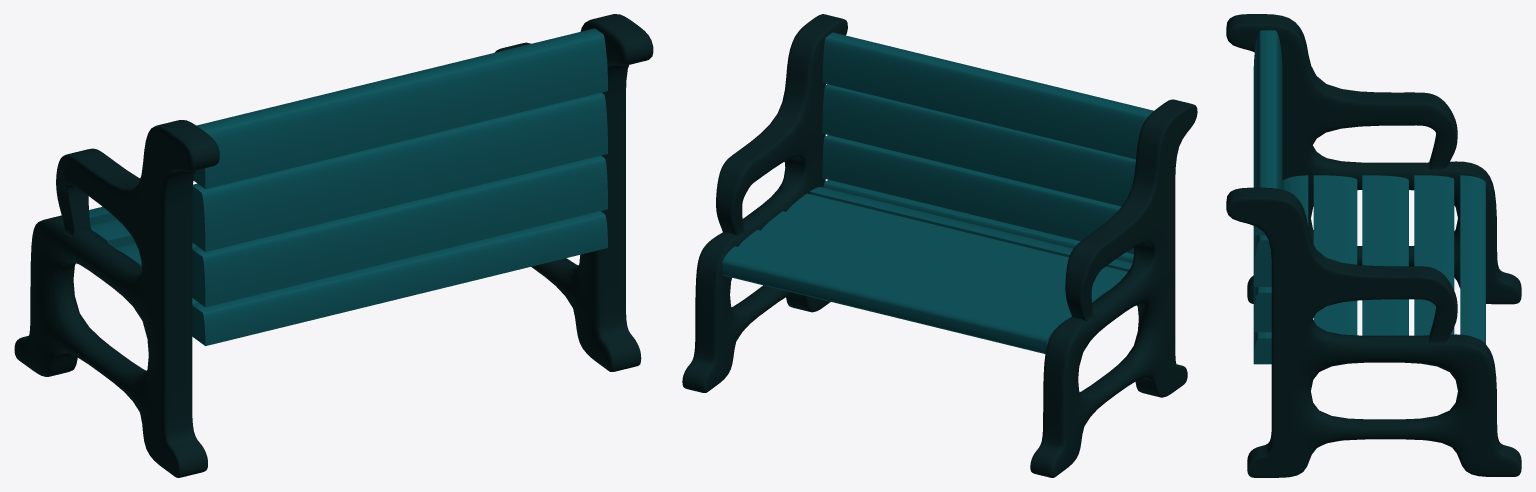
The model's file is Banco.fbx.
The picture shows the model from 3 angles, left to right: view 1: azimuth 30°, elevation 25°; view 2: azimuth 150°, elevation 25°; view 3: azimuth 270°, elevation 25°; orthographic projection. The views are drawn at different scales.
Visible parts, largest first — view 1: Cube.092, Cube.091, Cube.090; view 2: Cube.092, Cube.091, Cube.090; view 3: Cube.091, Cube.090, Cube.092.
Boxes of the visible parts, bbox=[...] form: Cube.092: bbox=[192, 28, 607, 345]; Cube.091: bbox=[14, 14, 653, 477]; Cube.090: bbox=[89, 183, 197, 303]; Cube.092: bbox=[822, 32, 1153, 262]; Cube.091: bbox=[682, 14, 1197, 477]; Cube.090: bbox=[722, 187, 1132, 353]; Cube.091: bbox=[1226, 14, 1521, 477]; Cube.090: bbox=[1282, 175, 1485, 344]; Cube.092: bbox=[1253, 30, 1282, 364].
Bounding box in the file's own units: 477 × 337 × 321.
